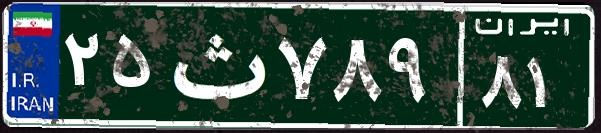1: (525, 38, 570, 115)
2: (57, 26, 110, 107)
5: (110, 28, 158, 105)
7: (273, 28, 330, 110)
8: (330, 28, 385, 110), (475, 38, 525, 113)
9: (385, 28, 445, 110)
ث: (158, 15, 273, 115)
